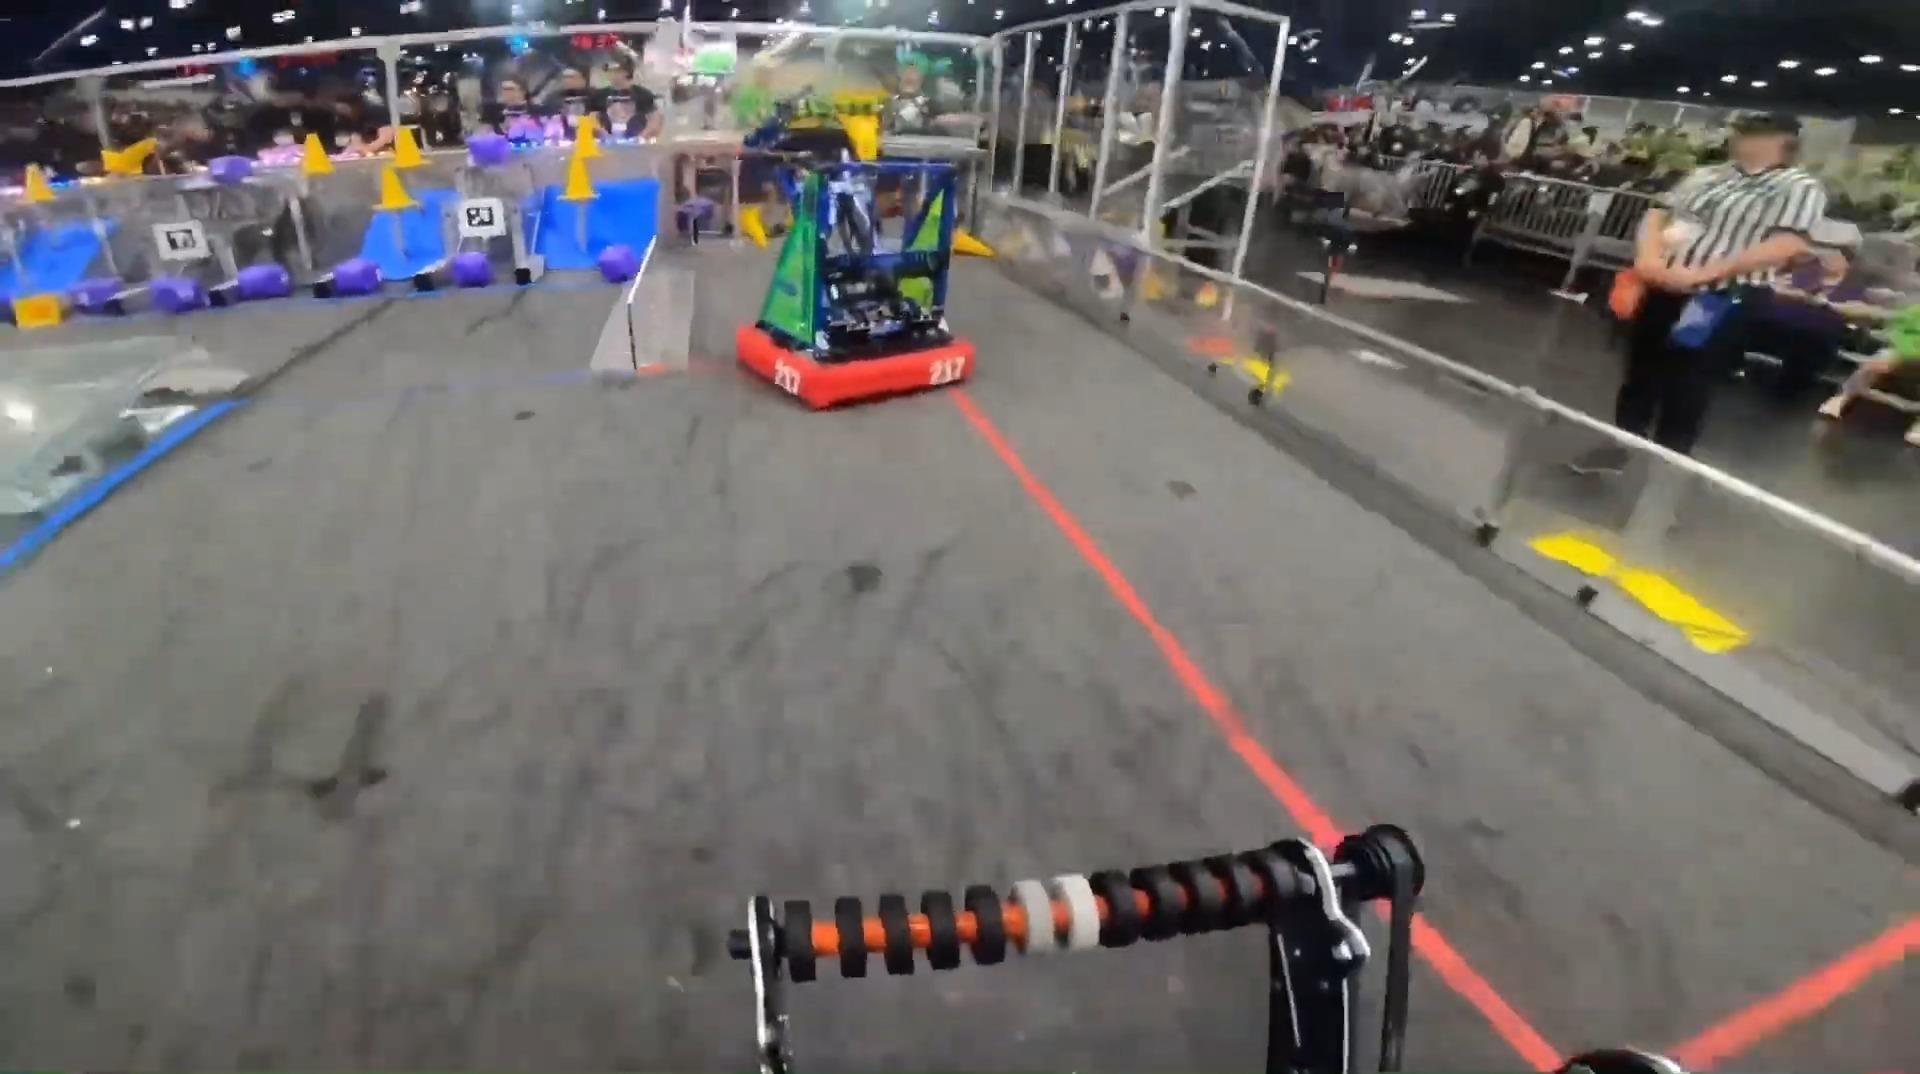robot: (731, 108, 978, 412)
